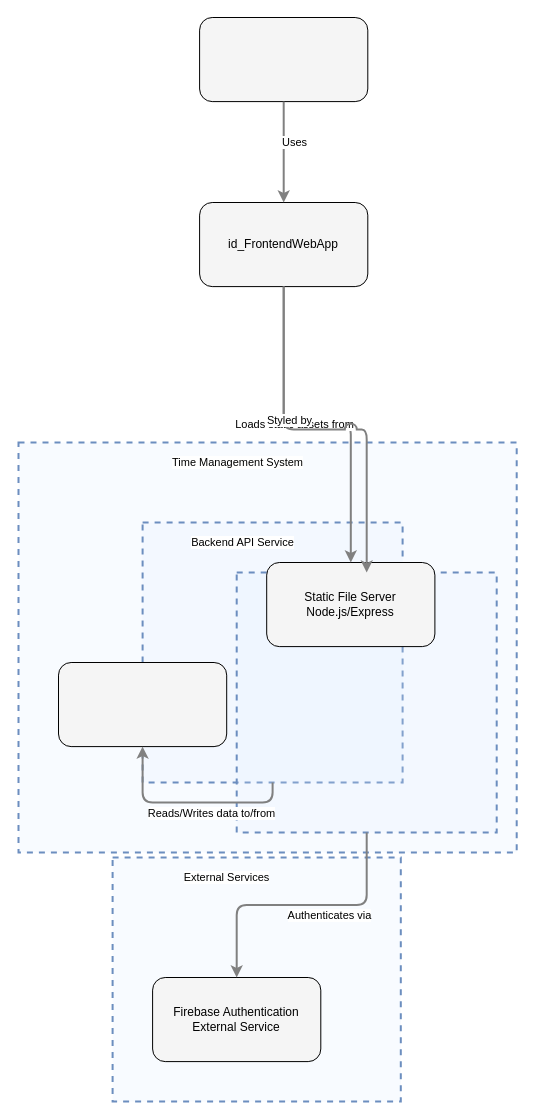
The diagram is 535 pixels wide and 1120 high, and some of its shapes have lost their labels. The centre of each missing label's shape, as x and y in pixels:
Application Database Database (e.g., SQLite): (142,704)
User External Actor: (283,59)
